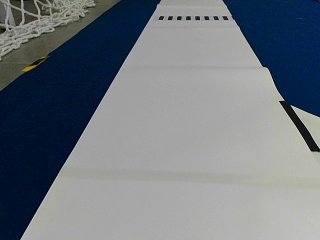crosswalk: (158, 14, 228, 20)
